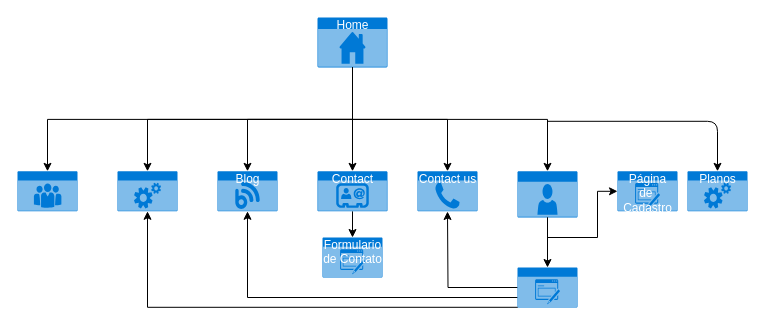
Image size: 764x333. Some labels were removed from this diagram. The centre of each missing label's shape, as x and y in pixels:
"Perfil Cliente" goes at (x=547, y=287).
"Services" goes at (x=147, y=191).
"Sobre nós" goes at (x=47, y=191).
"Área Cliente Form Login" goes at (x=547, y=194).
